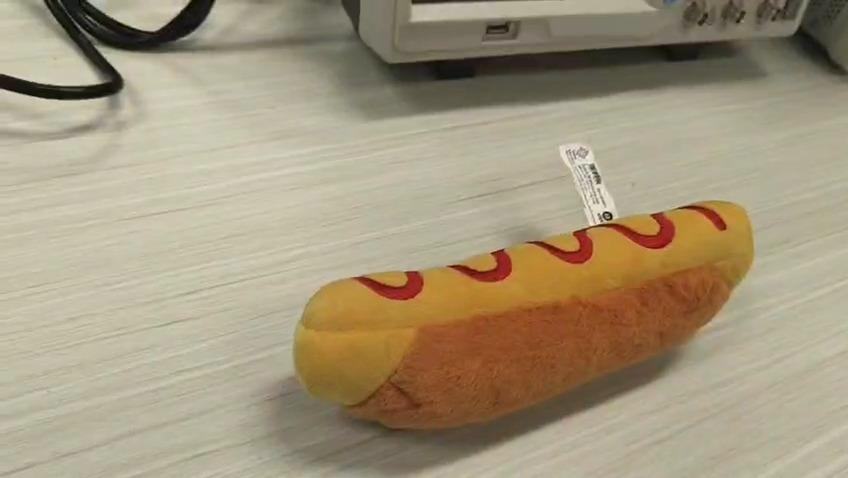hotdog: (291, 197, 754, 431)
